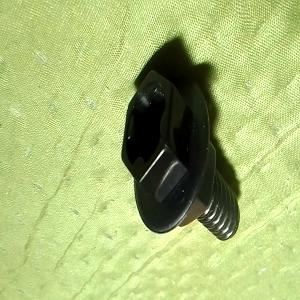parafuso: (121, 68, 242, 244)
